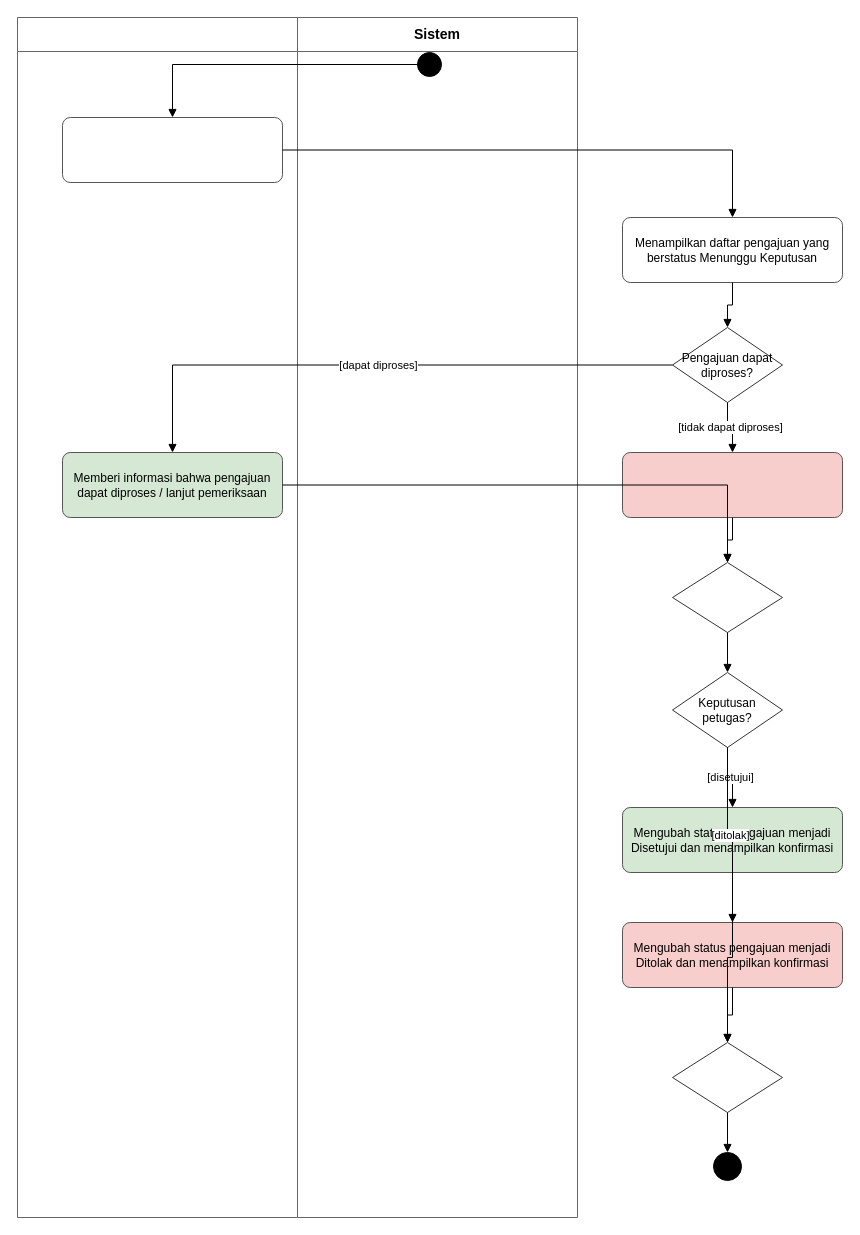
Some shapes in this 860 by 1235 pixel diagram are drawn without their labels. The shapes that lost their labels are listed below. From the top down, each one's box as (x1, y1, x2, y2) in pixels, then its label:
(62, 116, 282, 182): Membuka daftar pengajuan yang berstatus Menunggu Keputusan
(622, 452, 842, 518): Menampilkan pesan pengajuan tidak dapat diproses
(16, 16, 298, 1218): Petugas Laboratorium
